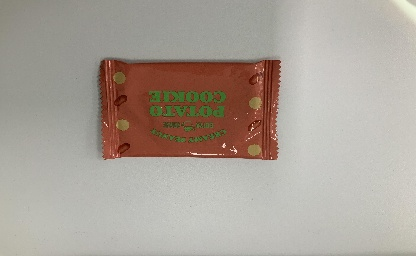pota: (96, 56, 284, 163)
